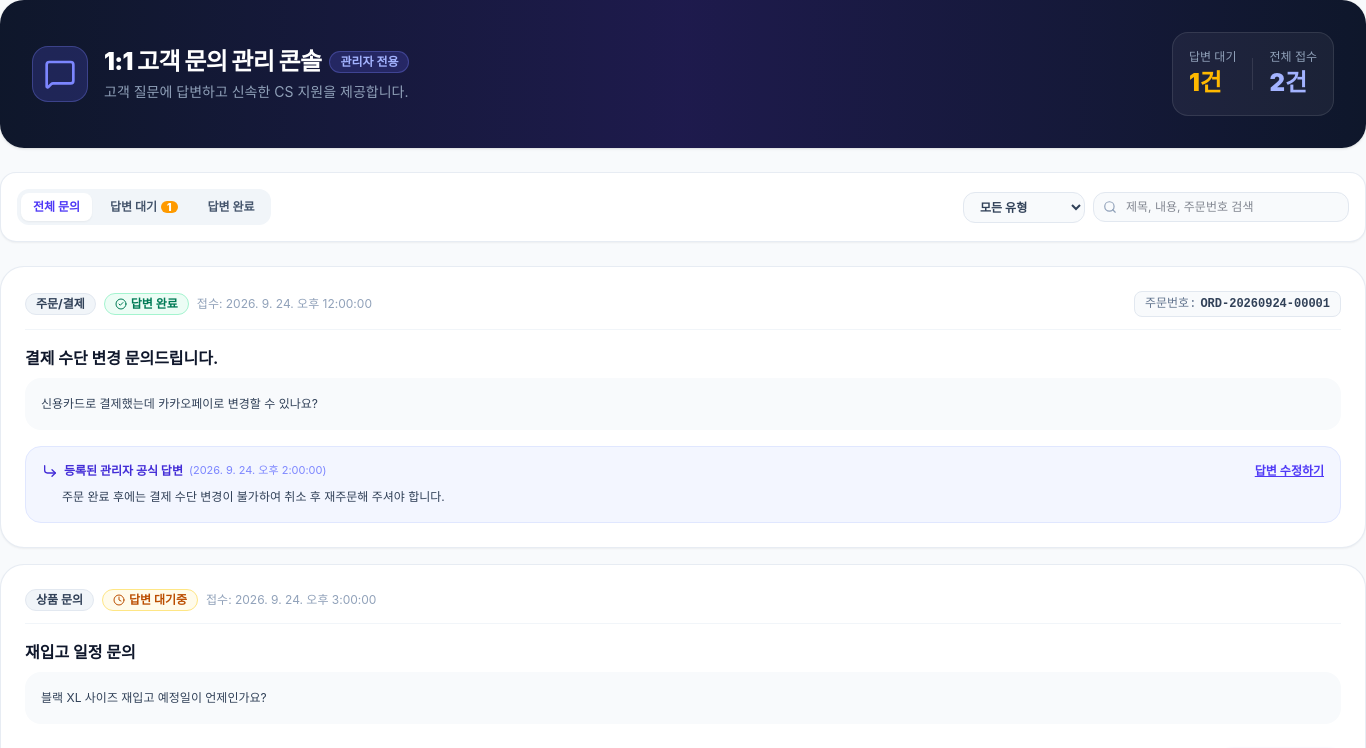
it: AdminInquiriesViewer Component › 검색어로 문의를 필터링할 수 있다
In the field with placeholder "제목, 내용, 주문번호 검색": (1221, 207) [1093,192,1349,222], type "블랙 XL"
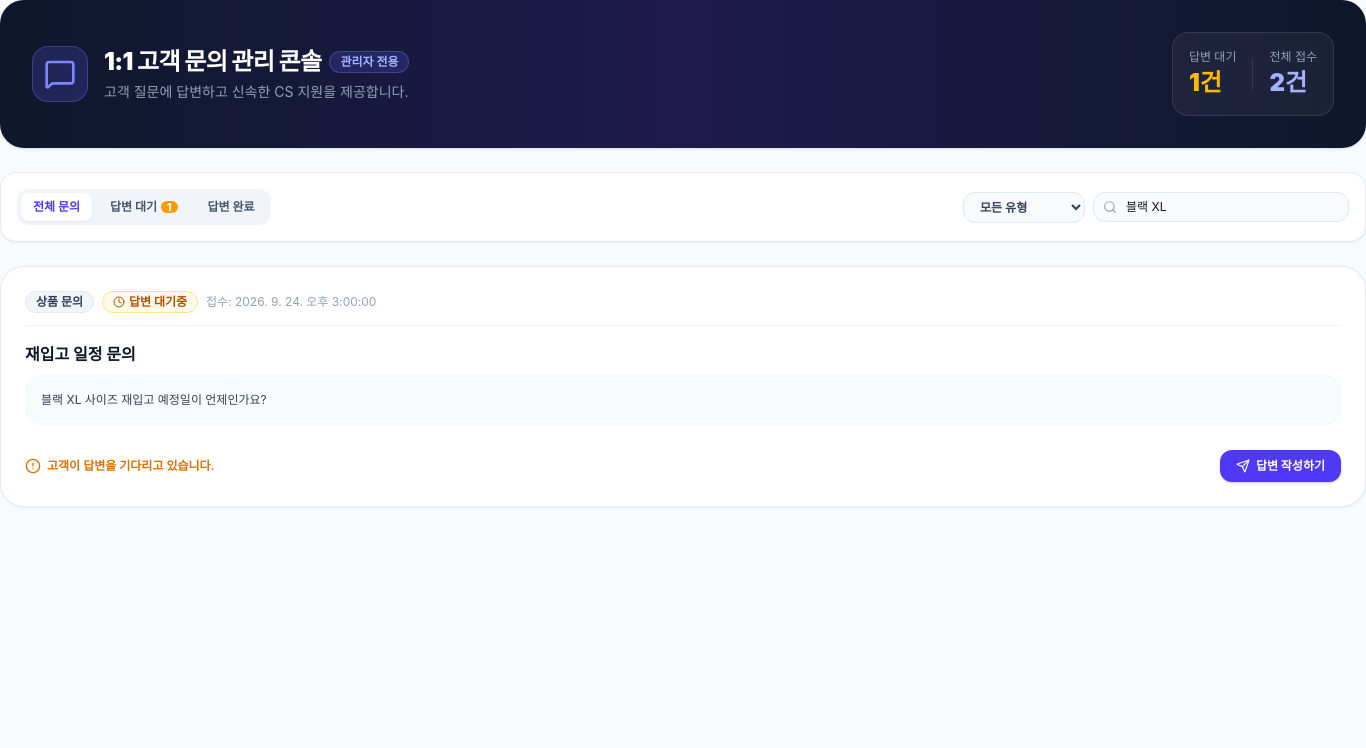
Expected: the heading "재입고 일정 문의" is shown, [25,344,136,364]
Expected: the heading "결제 수단 변경 문의드립니다." is gone
